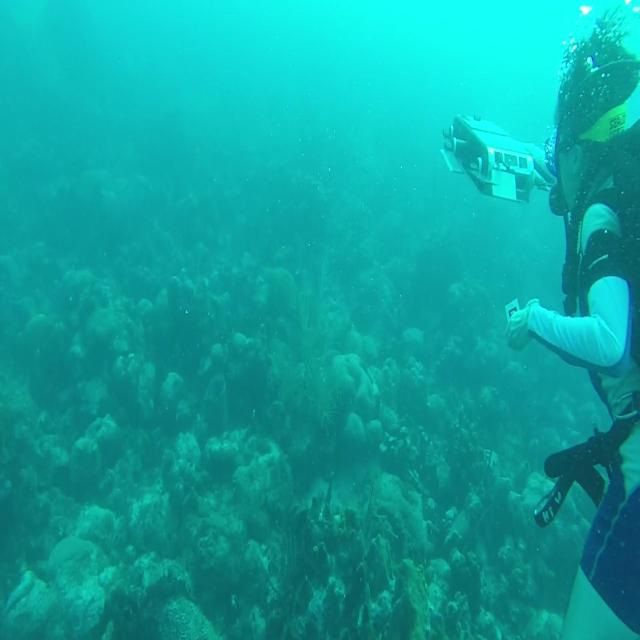human: (504, 5, 639, 637)
